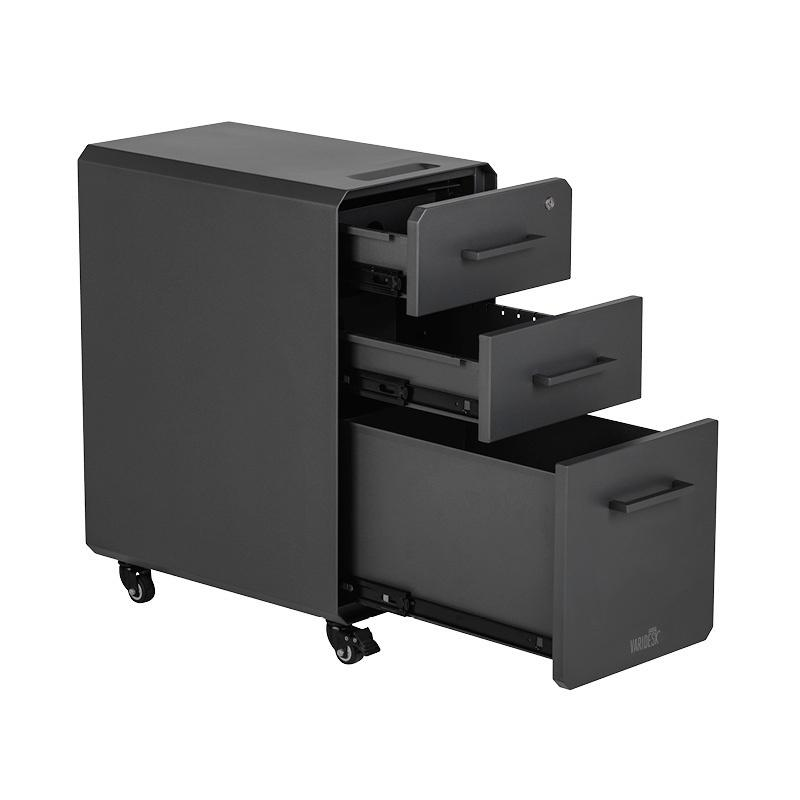cabinet_door: (571, 452, 720, 636), (485, 318, 640, 416), (418, 195, 574, 290)
handle: (610, 478, 695, 519), (531, 359, 615, 391), (459, 237, 542, 264)
